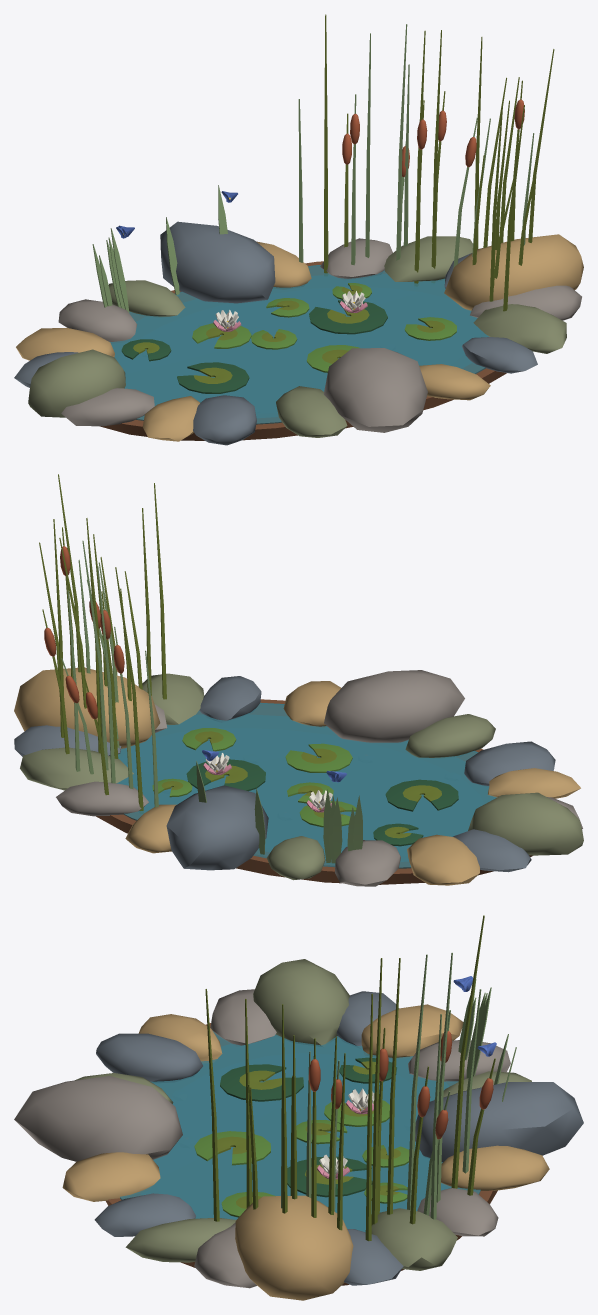
The model's file is deco_pond_lily.fbx.
3 renders of one model, top to bottom at view 1: azimuth 30°, elevation 25°; view 2: azimuth 150°, elevation 25°; view 3: azimuth 270°, elevation 25°, orthographic. The views are drawn at different scales.
Parts seen in each view (by area): view 1: Pond_Lily_Edge, Pond_Lily_Water, Pond_Lily_Reeds, Pond_Lily_Pads, Pond_Lily_Bed; view 2: Pond_Lily_Edge, Pond_Lily_Water, Pond_Lily_Reeds, Pond_Lily_Pads, Pond_Lily_Bed; view 3: Pond_Lily_Edge, Pond_Lily_Water, Pond_Lily_Reeds, Pond_Lily_Pads.
Boxes of the visible parts, x1,y1,x2,y2 form: Pond_Lily_Edge: (14, 221, 583, 445); Pond_Lily_Water: (109, 265, 489, 424); Pond_Lily_Reeds: (92, 14, 554, 312); Pond_Lily_Pads: (121, 283, 456, 393); Pond_Lily_Bed: (100, 261, 506, 440); Pond_Lily_Edge: (14, 667, 583, 886); Pond_Lily_Water: (116, 702, 496, 868); Pond_Lily_Reeds: (39, 474, 362, 863); Pond_Lily_Pads: (152, 728, 458, 846); Pond_Lily_Bed: (96, 699, 532, 884); Pond_Lily_Edge: (14, 959, 583, 1300); Pond_Lily_Water: (120, 1031, 480, 1232); Pond_Lily_Reeds: (205, 915, 516, 1241); Pond_Lily_Pads: (194, 1057, 409, 1217).
Size of the model in its own units: 388 by 173 by 295.
